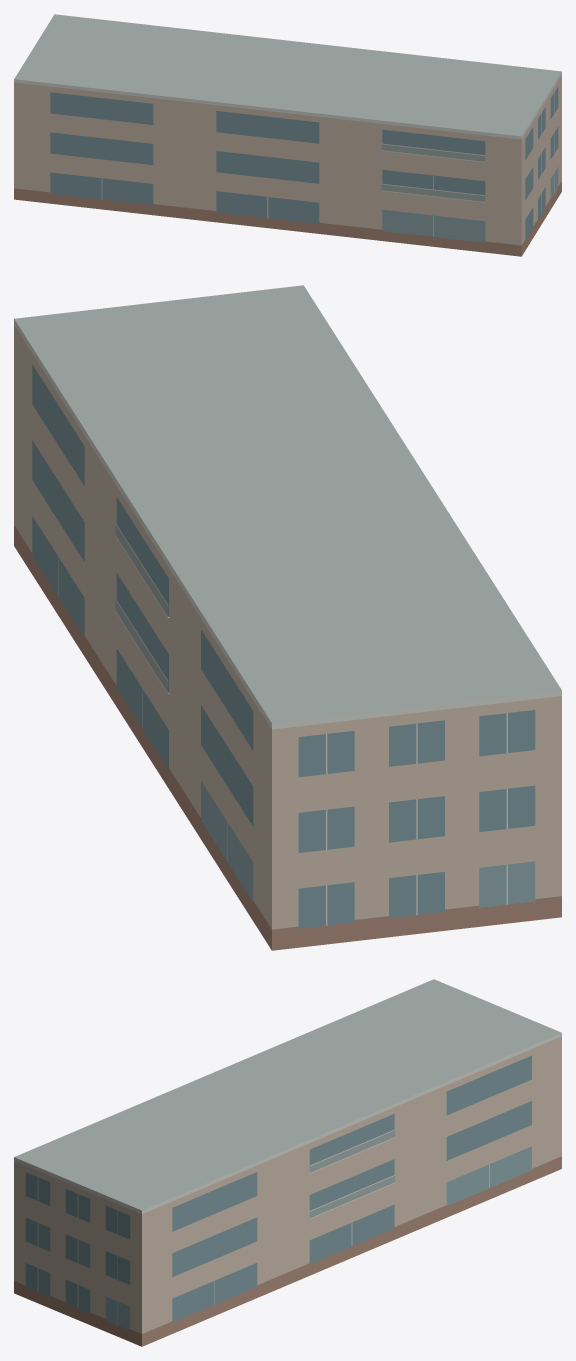
The model's file is survey-upis-32808620.glb.
3 views of the same model, one above another, from view 1: azimuth 30°, elevation 25°; view 2: azimuth 150°, elevation 25°; view 3: azimuth 270°, elevation 25° (orthographic). The views are drawn at different scales.
Parts seen in each view (by area): view 1: survey-upis-32808620.tmp; view 2: survey-upis-32808620.tmp; view 3: survey-upis-32808620.tmp.
Part boxes in pixels (x1,y1,x2,y2): survey-upis-32808620.tmp: (14,14,561,256); survey-upis-32808620.tmp: (14,285,561,950); survey-upis-32808620.tmp: (14,979,561,1346).
Bounding box in the file's own units: 33.35 × 9.15 × 33.36.
